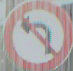Don't turn left: (7, 3, 65, 64)
